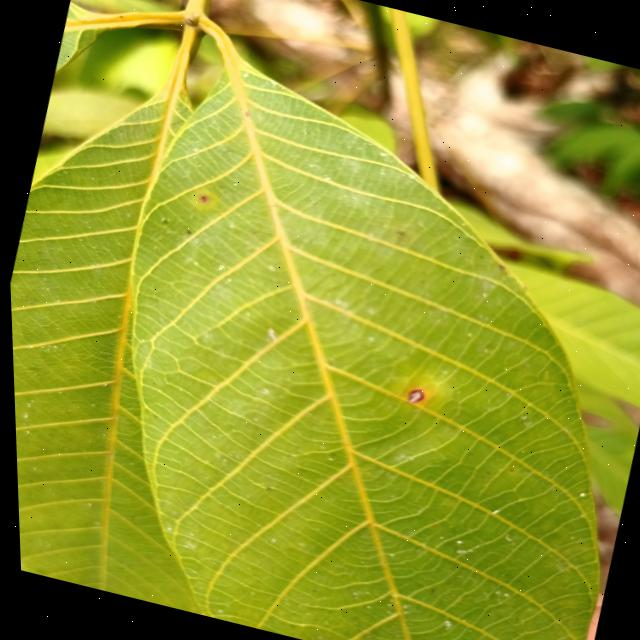Colletotrichum: (402, 386, 422, 405)
